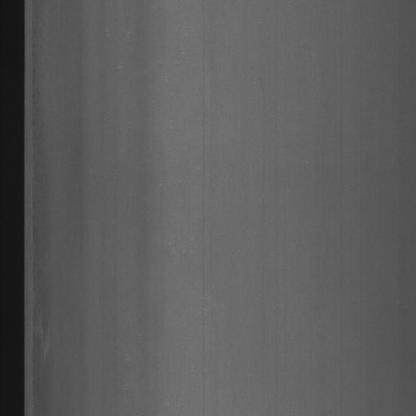silk_spot: (28, 108, 49, 368)
